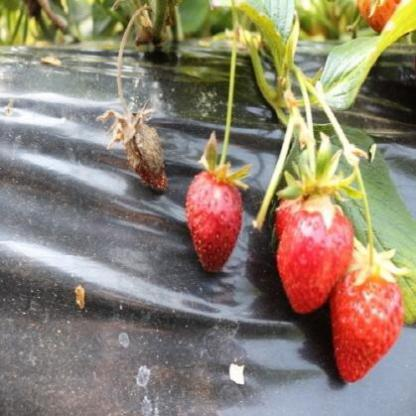Strawberry_Gray_Mold: (95, 100, 169, 192)
